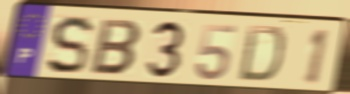1: (305, 27, 331, 87)
3: (142, 18, 188, 82)
5: (194, 22, 239, 82)
B: (88, 17, 143, 78)
D: (235, 23, 287, 85)
S: (45, 14, 95, 77)
